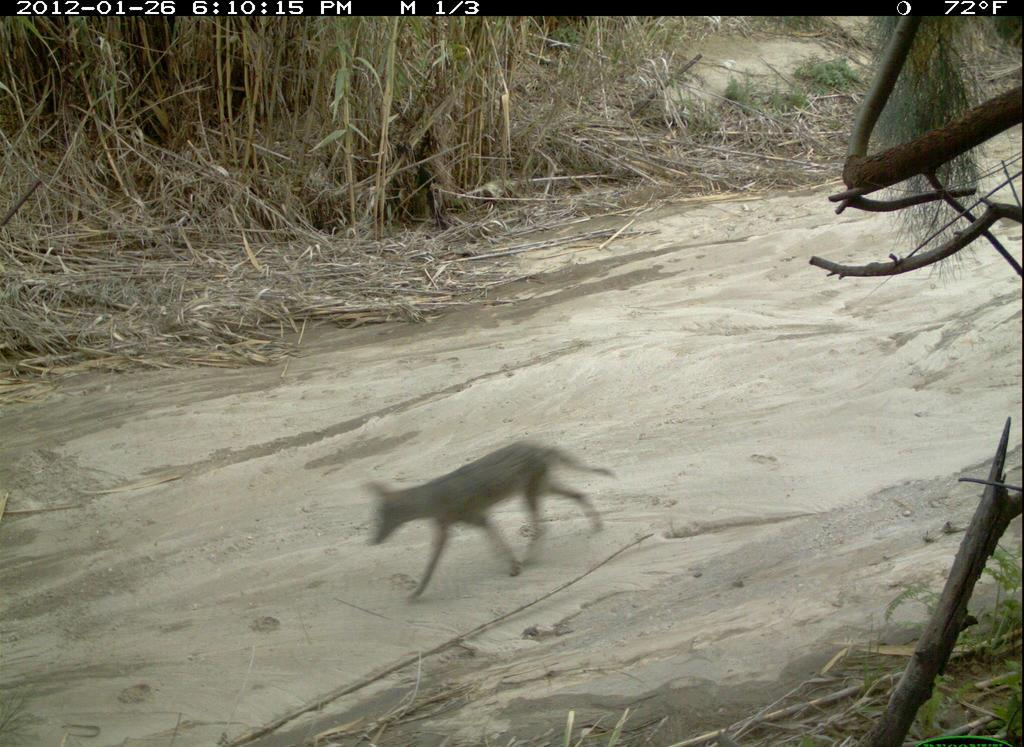coyote: (356, 429, 626, 616)
